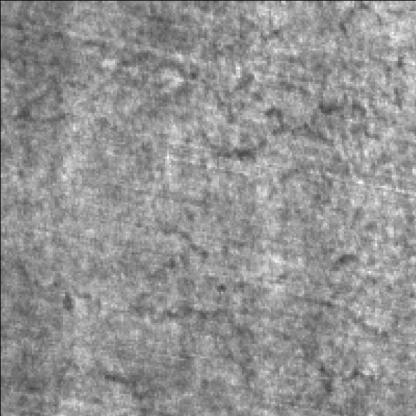crazing: (135, 223, 391, 394), (97, 40, 380, 158)
